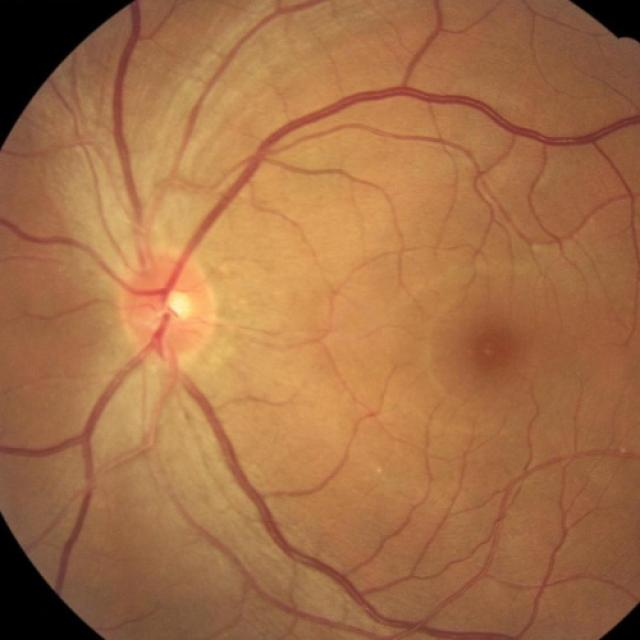OC: (162, 290, 192, 321)
OD: (122, 260, 216, 358)
